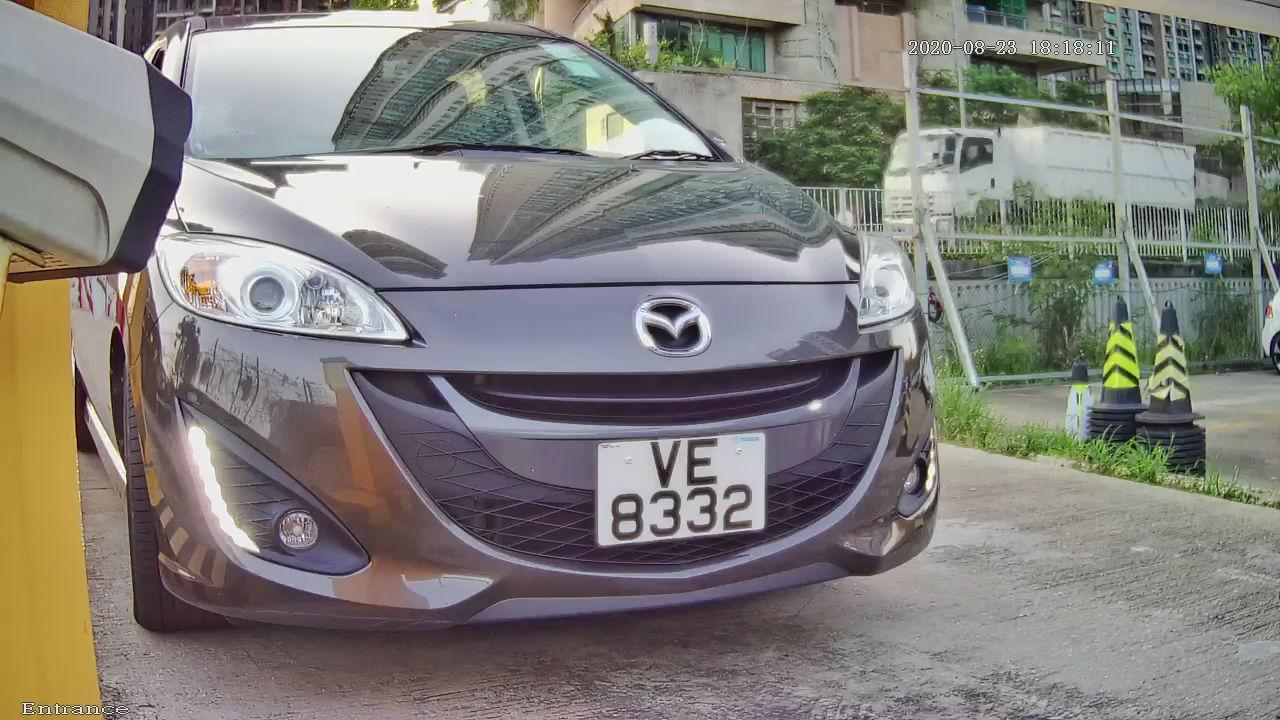Car: (29, 1, 1012, 698)
License Plate: (533, 385, 838, 601)
